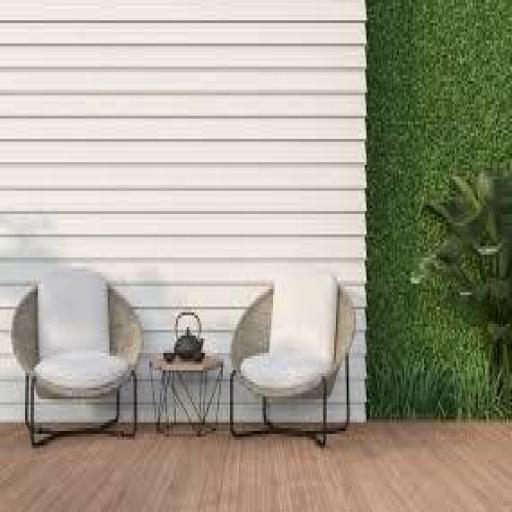chair: (8, 260, 146, 452)
